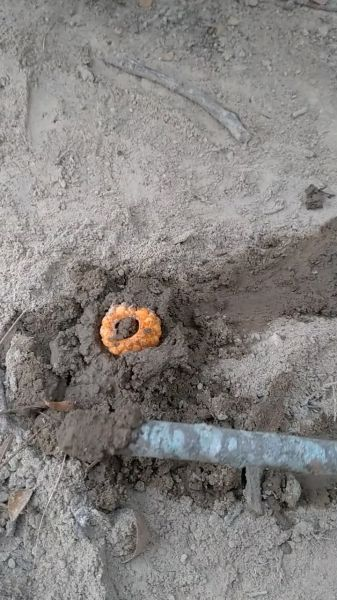eggs: (95, 302, 163, 358)
